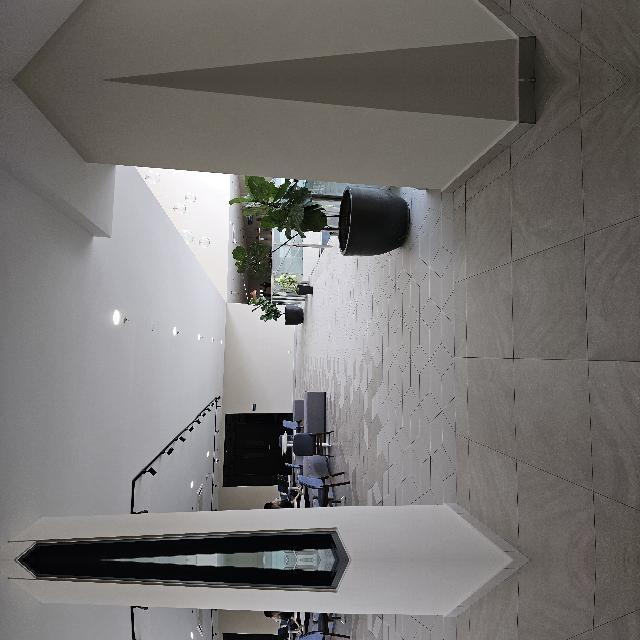obstacle: (298, 382, 378, 488), (49, 372, 174, 426), (298, 631, 377, 640)
